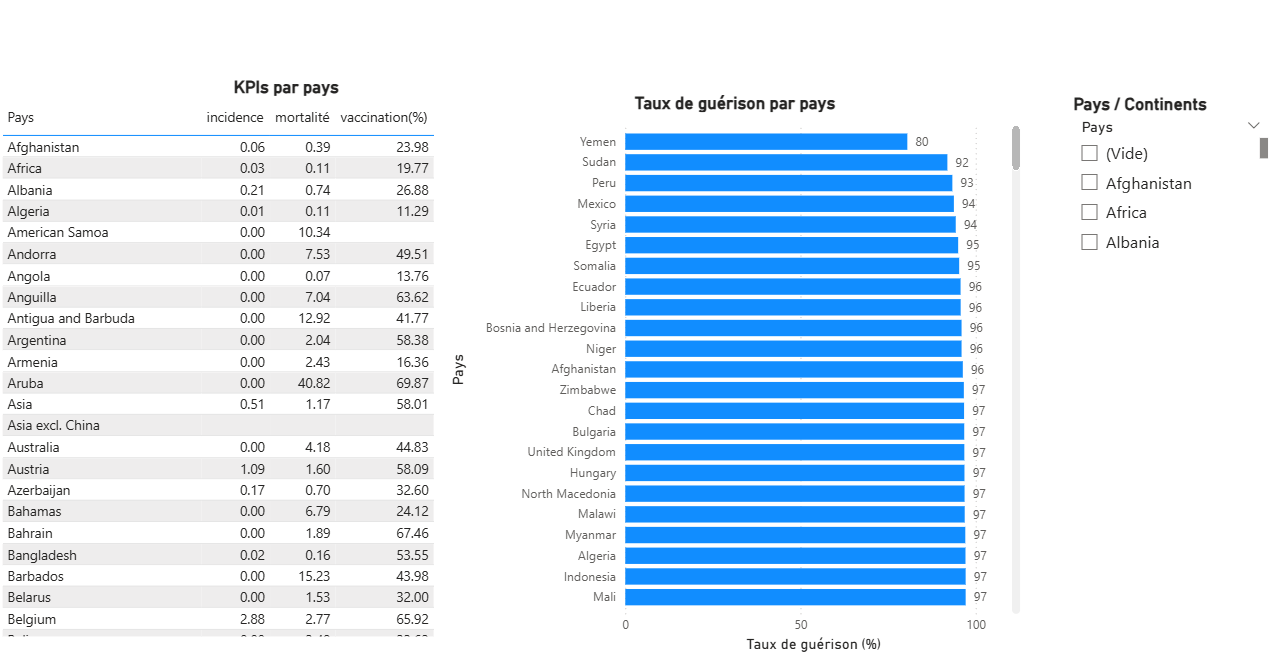

The page's visual inventory and layout, read from the dashboard file:
{"tool":"powerbi","page":{"name":"Comparaison KPIs par pays","canvas":[1280,720],"ordinal":1},"visuals":[{"type":"tableEx","title":"KPIs par pays","fields":{"Values":["covid_kpi_global.country","covid_kpi_global.incidence","covid_kpi_global.mortality","covid_kpi_global.Niveau vaccination"]},"box":[0,129,568.1,553],"z":0},{"type":"barChart","title":"Taux de guérison par pays","fields":{"Category":["covid_kpi_global.Pays"],"Y":["Sum(covid_kpi_global.recovery_rate)"]},"box":[439.1,144.1,568.1,553],"z":1000},{"type":"slicer","title":"Pays / Continents","fields":{"Values":["covid_kpi_global.Pays"]},"box":[1049.7,145.5,200.3,167.4],"z":2000}]}

Visuals, with their boxes on the page's 1280x720 design canvas (x1, y1, x2, y2). These are canvas units, not pixel positions in the 1280x667 screenshot, which may show the page scaled, cropped or inside an application window:
"KPIs par pays" tableEx: [0,129,568,682]
"Taux de guérison par pays" barChart: [439,144,1007,697]
"Pays / Continents" slicer: [1050,146,1250,313]
